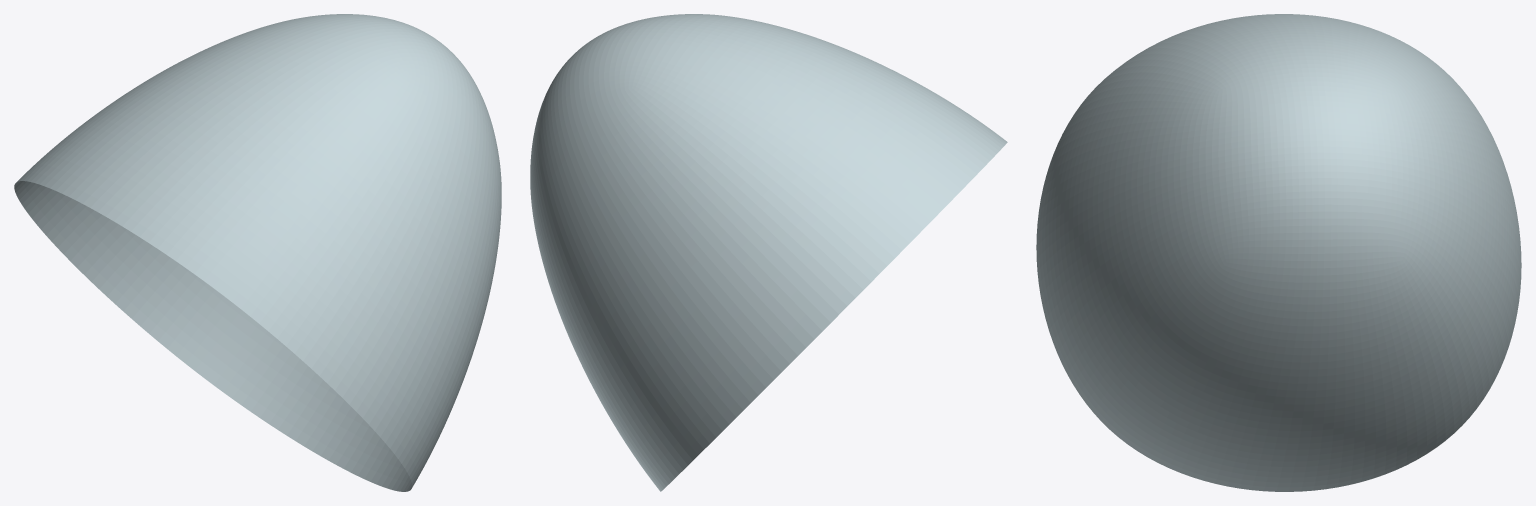
File: egg 1.fbx
The picture shows the model from 3 angles, left to right: view 1: azimuth 30°, elevation 25°; view 2: azimuth 150°, elevation 25°; view 3: azimuth 270°, elevation 25°; orthographic projection.
Visible parts, largest first — view 1: egg; view 2: egg; view 3: egg.
Boxes of the visible parts, box(x1,y1,x2,y2) form: egg: box(14, 14, 501, 491); egg: box(530, 14, 1007, 491); egg: box(1036, 14, 1521, 491).
Size of the model in its own units: 38.15 by 38.37 by 38.81.
